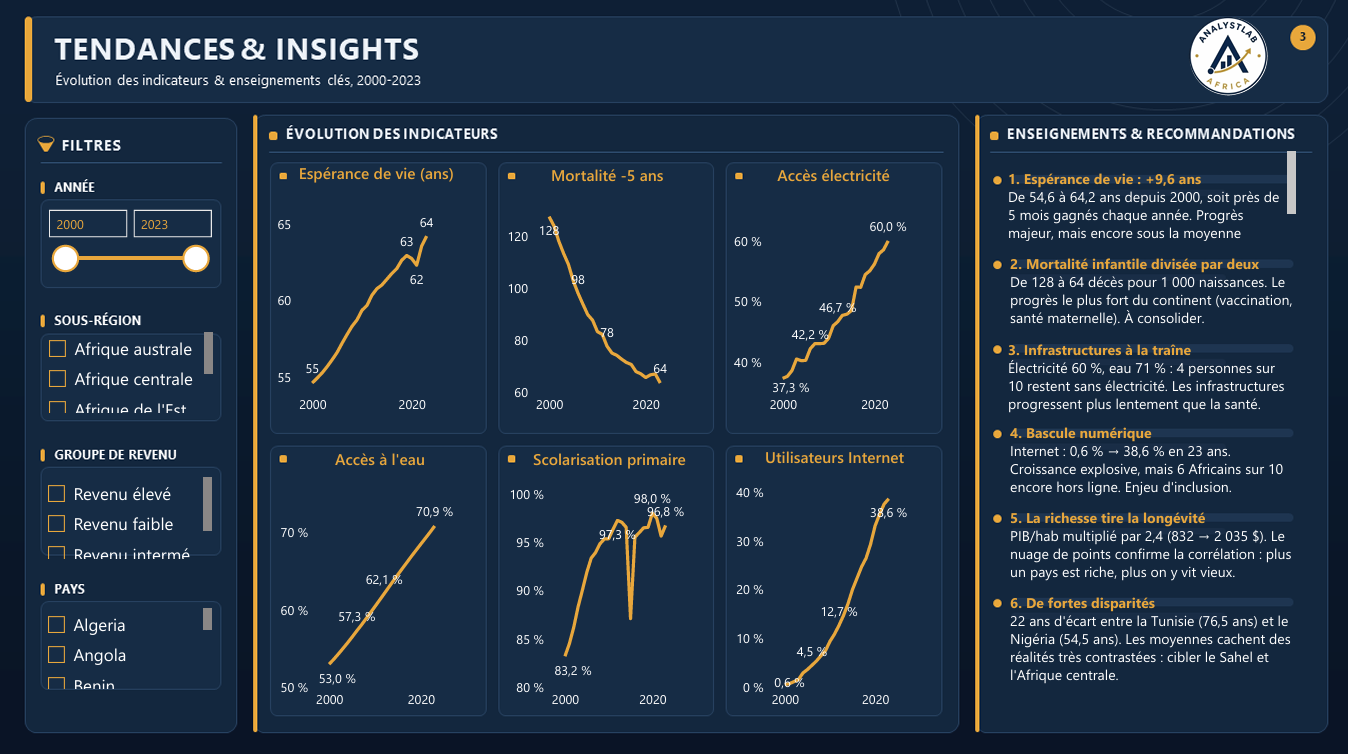

This screenshot's page, from the dashboard's own definition file:
{"tool":"powerbi","page":{"name":"Page 3","canvas":[1280,720],"ordinal":2},"visuals":[{"type":"slicer","fields":{"Values":["FaitAfrique.Year"]},"box":[33.6,190.2,173.4,78.3],"z":0},{"type":"slicer","fields":{"Values":["FaitAfrique.SubRegion"]},"box":[33.6,311.3,173.4,85.8],"z":1000},{"type":"slicer","fields":{"Values":["FaitAfrique.IncomeGroupFR"]},"box":[33.3,448.5,172.7,86.4],"z":2000},{"type":"slicer","fields":{"Values":["FaitAfrique.Country"]},"box":[32.8,571.9,173.4,85.9],"z":3000},{"type":"image","box":[1125,10.9,75,87.5],"z":4000},{"type":"lineChart","title":"Espérance de vie (ans)","fields":{"Category":["FaitAfrique.Year"],"Y":["_Mesures.Espérance de vie"]},"box":[258.5,155.4,196.9,247.7],"z":5000},{"type":"lineChart","title":"Mortalité -5 ans","fields":{"Category":["FaitAfrique.Year"],"Y":["_Mesures.Mortalité -5 ans"]},"box":[475.4,156.9,200,246.2],"z":6000},{"type":"lineChart","title":"Accès électricité ","fields":{"Category":["FaitAfrique.Year"],"Y":["_Mesures.Accès électricité"]},"box":[689.2,156.9,200,246.2],"z":7000},{"type":"lineChart","title":"Accès à l''eau","fields":{"Category":["FaitAfrique.Year"],"Y":["_Mesures.Accès eau"]},"box":[260,424.6,200,256.9],"z":8000},{"type":"lineChart","title":"Scolarisation primaire ","fields":{"Category":["FaitAfrique.Year"],"Y":["_Mesures.Scolarisation primaire"]},"box":[476.9,424.6,200,256.9],"z":9000},{"type":"lineChart","title":"Utilisateurs Internet","fields":{"Category":["FaitAfrique.Year"],"Y":["_Mesures.Utilisateurs Internet"]},"box":[690.8,423.1,198.5,258.5],"z":10000},{"type":"textbox","box":[949.2,140,281.5,93.8],"z":11000},{"type":"textbox","box":[950.8,236.9,280,84.6],"z":12000},{"type":"textbox","box":[949.2,318.5,280,84.6],"z":13000},{"type":"textbox","box":[950.8,396.9,280,84.6],"z":14000},{"type":"textbox","box":[950.8,476.9,280,84.6],"z":15000},{"type":"textbox","box":[950.8,558.5,280,123.1],"z":16000}]}

Visuals, with their boxes in screenshot pixels (x1, y1, x2, y2), scaled from the page's 1280x720 canvas onto the 1348x754 screenshot:
slicer - FaitAfrique.Year: 35/199/218/281
slicer - FaitAfrique.SubRegion: 35/326/218/416
slicer - FaitAfrique.IncomeGroupFR: 35/470/217/560
slicer - FaitAfrique.Country: 35/599/217/689
image: 1185/11/1264/103
"Espérance de vie (ans)" lineChart: 272/163/480/422
"Mortalité -5 ans" lineChart: 501/164/711/422
"Accès électricité " lineChart: 726/164/936/422
"Accès à l''eau" lineChart: 274/445/484/714
"Scolarisation primaire " lineChart: 502/445/713/714
"Utilisateurs Internet" lineChart: 727/443/937/714
textbox: 1000/147/1296/245
textbox: 1001/248/1296/337
textbox: 1000/334/1295/422
textbox: 1001/416/1296/504
textbox: 1001/499/1296/588
textbox: 1001/585/1296/714
